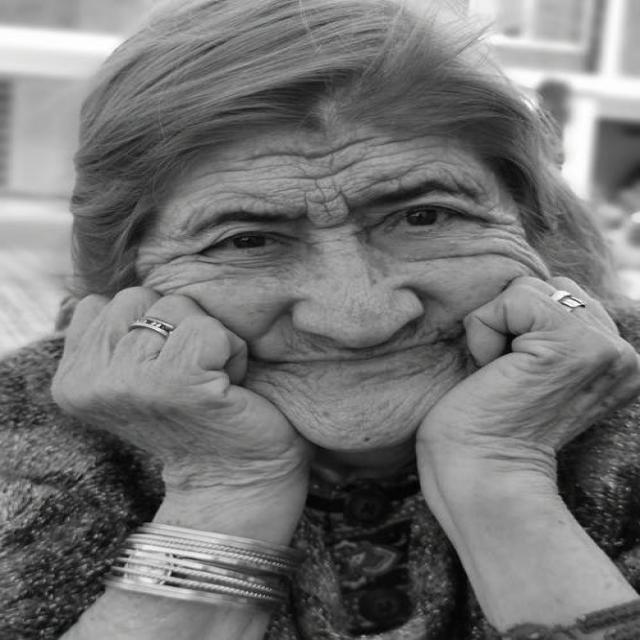Wrinkles: (239, 137, 375, 160), (259, 159, 363, 180), (190, 166, 280, 179), (358, 169, 411, 190), (186, 191, 261, 205), (364, 146, 439, 159), (185, 182, 228, 196), (370, 135, 424, 146), (413, 159, 459, 167), (314, 180, 327, 202), (340, 191, 349, 214), (329, 152, 334, 173), (304, 193, 308, 218)
